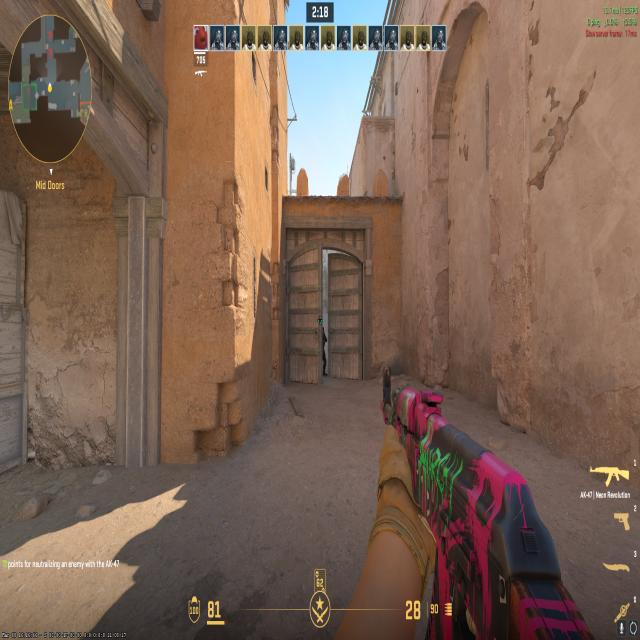ct: (318, 320, 328, 377)
